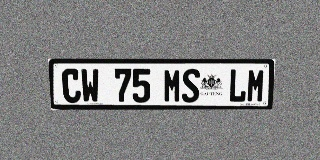5: (132, 69, 150, 103)
7: (113, 69, 132, 103)
C: (61, 69, 81, 103)
L: (228, 69, 247, 102)
M: (246, 69, 266, 102), (163, 69, 181, 103)
S: (182, 69, 200, 102)
W: (80, 69, 100, 103)
